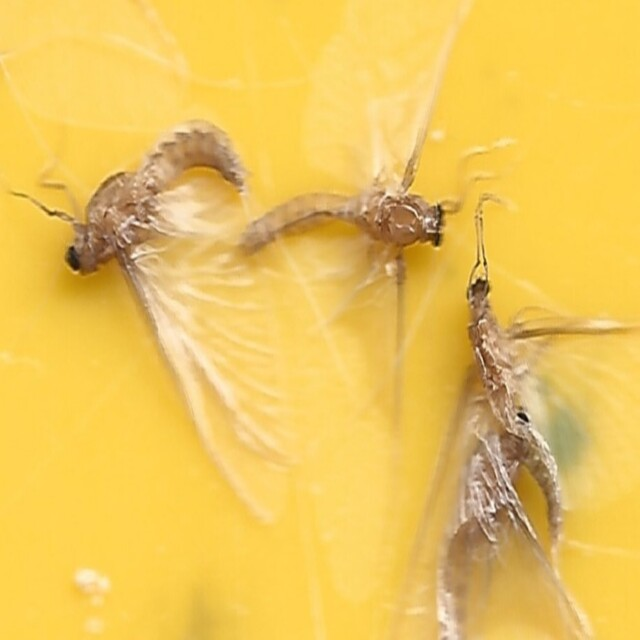Ephemeroptera: (457, 264, 570, 521), (70, 119, 247, 280), (244, 182, 452, 280)
